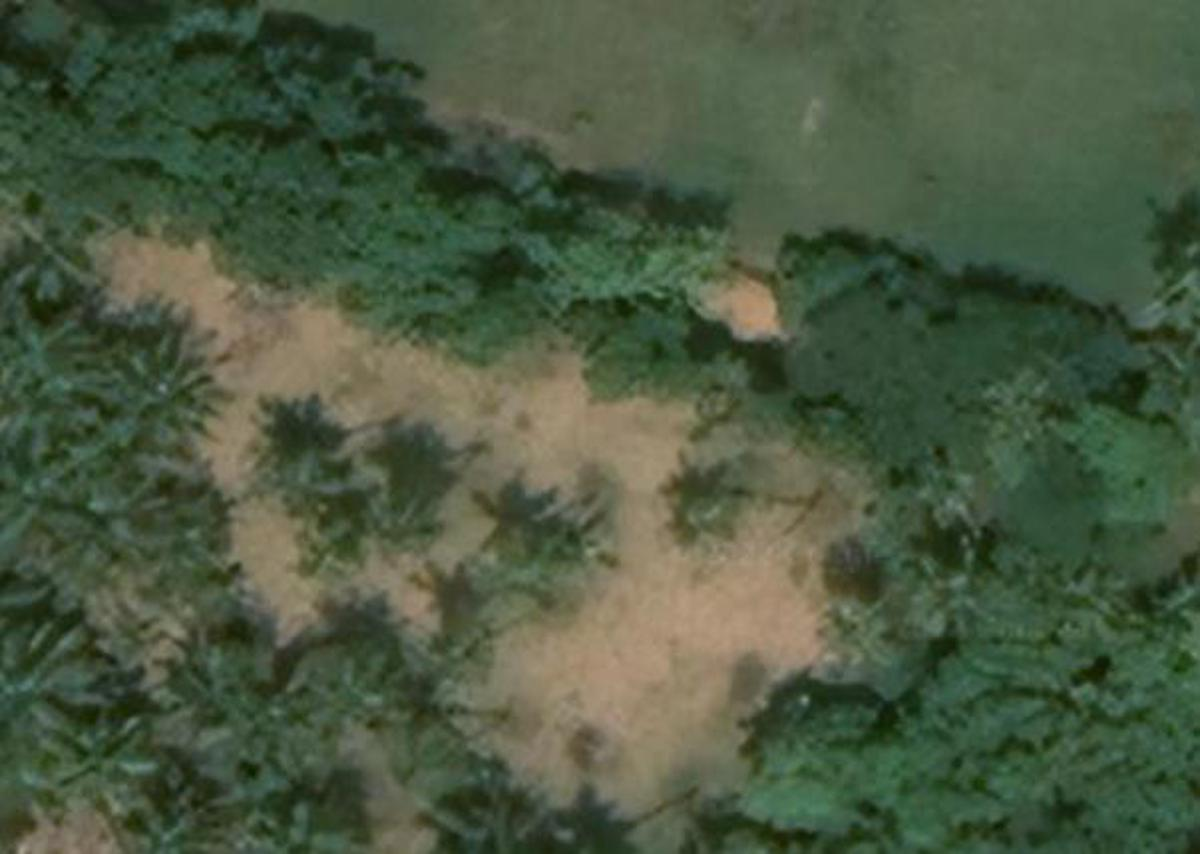coconut: (3, 429, 149, 573), (3, 625, 129, 750), (45, 499, 187, 603), (123, 342, 234, 447), (1, 318, 117, 418), (308, 650, 419, 746), (37, 730, 159, 814), (5, 214, 115, 304), (167, 644, 282, 728), (248, 437, 362, 515), (423, 792, 565, 854), (507, 505, 614, 581), (286, 507, 370, 583), (376, 483, 461, 557), (423, 629, 501, 708), (668, 487, 744, 545)
